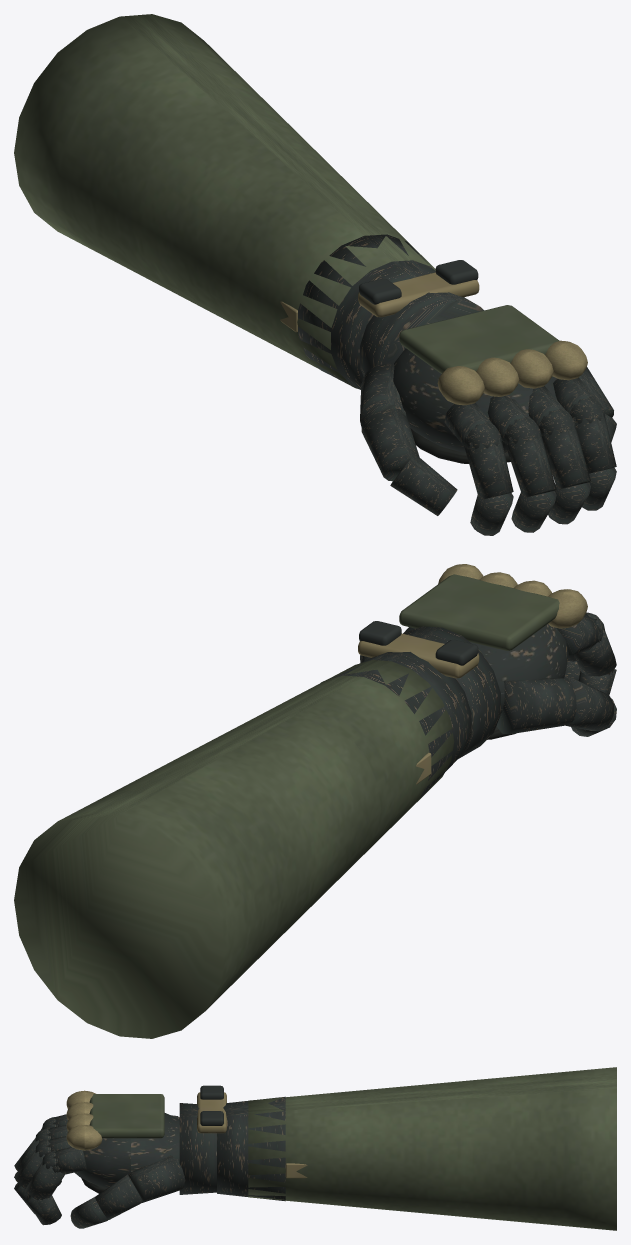
The model's file is hands.glb.
3 renders of one model, top to bottom at view 1: azimuth 30°, elevation 25°; view 2: azimuth 150°, elevation 25°; view 3: azimuth 270°, elevation 25°, orthographic. The views are drawn at different scales.
Visible parts, largest first — view 1: forearm_right_mesh, hand_right_mesh, forearm_left_mesh, hand_left_mesh; view 2: forearm_right_mesh, hand_right_mesh, forearm_left_mesh, hand_left_mesh; view 3: forearm_right_mesh, forearm_left_mesh, hand_right_mesh, hand_left_mesh.
Part boxes in pixels (bbox=[...]): forearm_right_mesh: bbox=[14, 14, 435, 389]; hand_right_mesh: bbox=[358, 260, 595, 535]; forearm_left_mesh: bbox=[15, 44, 421, 388]; hand_left_mesh: bbox=[359, 278, 616, 529]; forearm_right_mesh: bbox=[14, 652, 471, 1038]; hand_right_mesh: bbox=[358, 564, 616, 758]; forearm_left_mesh: bbox=[190, 660, 471, 887]; hand_left_mesh: bbox=[360, 623, 613, 694]; forearm_right_mesh: bbox=[217, 1067, 616, 1230]; forearm_left_mesh: bbox=[217, 1068, 616, 1230]; hand_right_mesh: bbox=[14, 1090, 226, 1224]; hand_left_mesh: bbox=[14, 1085, 223, 1228].
Size of the model in its own units: 0.1438 by 0.132 by 0.4825.
Materials: 1 (1 with a texture image).
